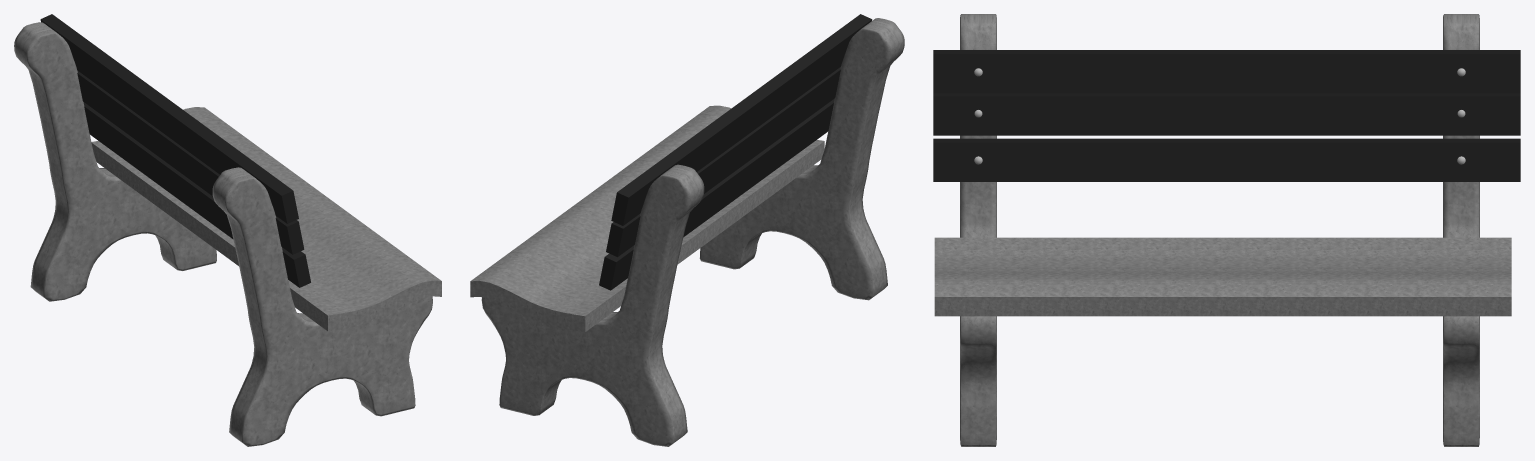
The model's file is sillaExterior.fbx.
3 renders of one model, left to right at view 1: azimuth 30°, elevation 25°; view 2: azimuth 150°, elevation 25°; view 3: azimuth 270°, elevation 25°, orthographic. The views are drawn at different scales.
Parts seen in each view (by area): view 1: polySurface25, polySurface45, pCube1, polySurface23, polySurface26, polySurface22; view 2: polySurface45, polySurface25, pCube1, polySurface23, polySurface26, polySurface22; view 3: pCube1, polySurface23, polySurface26, polySurface22, polySurface25, polySurface45.
Boxes of the visible parts, x1=… form: polySurface25: x1=212, y1=167, x2=432, y2=446; polySurface45: x1=14, y1=22, x2=216, y2=301; pCube1: x1=91, y1=107, x2=441, y2=331; polySurface23: x1=40, y1=14, x2=298, y2=223; polySurface26: x1=83, y1=102, x2=310, y2=287; polySurface22: x1=77, y1=70, x2=304, y2=254; polySurface45: x1=481, y1=164, x2=704, y2=446; polySurface25: x1=699, y1=18, x2=904, y2=300; pCube1: x1=470, y1=105, x2=824, y2=332; polySurface23: x1=611, y1=14, x2=872, y2=225; polySurface26: x1=599, y1=98, x2=834, y2=290; polySurface22: x1=606, y1=67, x2=840, y2=257; pCube1: x1=934, y1=237, x2=1511, y2=316; polySurface23: x1=933, y1=50, x2=1520, y2=93; polySurface26: x1=933, y1=138, x2=1520, y2=181; polySurface22: x1=933, y1=93, x2=1520, y2=135; polySurface25: x1=960, y1=14, x2=996, y2=446; polySurface45: x1=1443, y1=14, x2=1479, y2=446.
Size of the model in its own units: 73.88 by 92.5 by 150.
